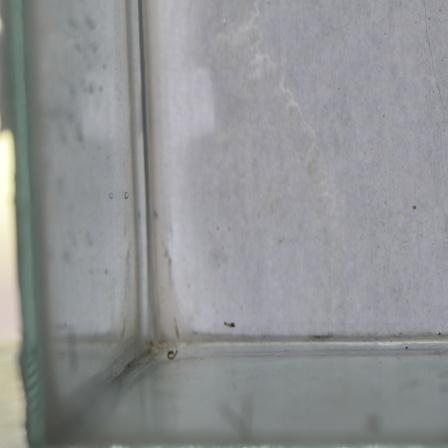Jentik-Nyamuk: (163, 344, 182, 366), (219, 315, 239, 333)
